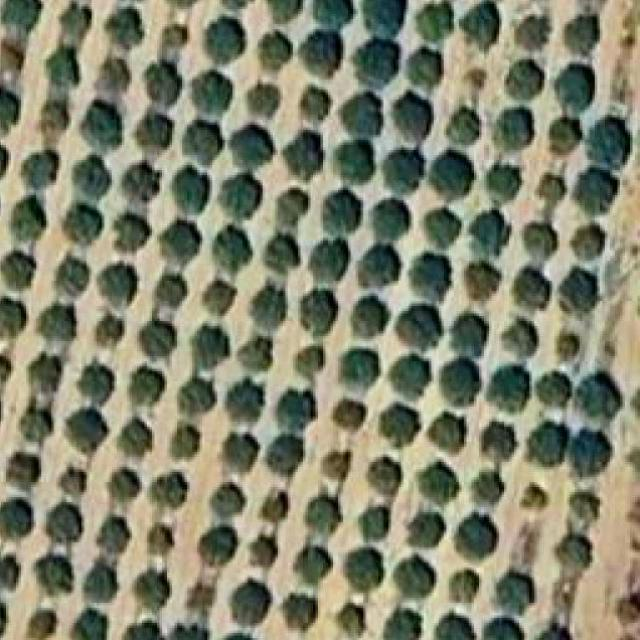Tree: (585, 115, 637, 167), (281, 127, 330, 180), (427, 150, 476, 203), (450, 510, 499, 560), (495, 316, 542, 368), (334, 89, 383, 138), (578, 165, 623, 218), (374, 150, 429, 193), (566, 427, 613, 477), (489, 107, 539, 153), (321, 183, 368, 231), (63, 409, 110, 457), (225, 578, 273, 625), (556, 11, 605, 57), (86, 98, 127, 152), (451, 314, 497, 362), (391, 94, 437, 142), (574, 373, 622, 419), (334, 138, 380, 185), (553, 66, 598, 114), (366, 200, 416, 243), (300, 32, 343, 82), (130, 110, 177, 155), (523, 422, 570, 467), (393, 554, 438, 601), (341, 549, 386, 596), (397, 301, 441, 349), (193, 525, 243, 567), (407, 255, 452, 300), (222, 373, 265, 420), (76, 359, 117, 408), (214, 429, 257, 475), (498, 59, 545, 101), (296, 286, 338, 333), (488, 366, 529, 414), (201, 17, 245, 61), (216, 175, 260, 219), (412, 0, 457, 43), (386, 356, 431, 399), (89, 54, 135, 96), (307, 235, 348, 282), (425, 408, 466, 455), (420, 460, 461, 507), (157, 222, 197, 270), (348, 298, 391, 342), (271, 190, 316, 232), (559, 271, 605, 312), (473, 208, 514, 254), (34, 304, 80, 345), (512, 266, 552, 313), (195, 276, 238, 319), (124, 369, 167, 412), (194, 326, 238, 368), (553, 537, 597, 579), (43, 502, 84, 547), (14, 148, 61, 187), (277, 591, 320, 633), (355, 248, 399, 289), (375, 401, 416, 445), (359, 0, 407, 37), (9, 195, 46, 243), (571, 225, 612, 268), (61, 203, 102, 246), (23, 354, 64, 397), (459, 255, 499, 299), (140, 318, 179, 363), (353, 40, 399, 78), (171, 165, 209, 211), (273, 389, 320, 426), (440, 361, 481, 403), (96, 264, 137, 306), (229, 128, 272, 168), (13, 404, 53, 447), (477, 163, 522, 201), (335, 349, 381, 386), (252, 283, 288, 330), (490, 572, 537, 608), (71, 155, 112, 196), (239, 79, 280, 120), (5, 452, 46, 493), (459, 2, 499, 44), (402, 48, 444, 88), (190, 69, 230, 111), (265, 435, 305, 477), (477, 422, 516, 465), (260, 29, 298, 73), (294, 542, 335, 582), (47, 2, 89, 41), (233, 334, 281, 368), (402, 516, 447, 552), (524, 218, 562, 260), (443, 108, 481, 150), (136, 570, 174, 612), (69, 603, 112, 640), (313, 445, 358, 480), (512, 14, 552, 53), (108, 214, 149, 252), (148, 467, 189, 505), (33, 552, 74, 590), (0, 35, 29, 88), (218, 225, 252, 270), (300, 495, 340, 533), (417, 208, 459, 244), (52, 253, 88, 295), (541, 117, 585, 151), (186, 123, 224, 162), (95, 516, 134, 554), (561, 487, 602, 523), (118, 420, 154, 461), (81, 562, 122, 598), (104, 9, 142, 47), (372, 460, 411, 497), (145, 62, 179, 104), (40, 50, 82, 84), (480, 610, 527, 640), (298, 82, 335, 120), (0, 253, 38, 290), (177, 380, 214, 418), (471, 470, 506, 510), (107, 465, 142, 505), (264, 230, 298, 271), (142, 520, 175, 561), (247, 532, 284, 568), (532, 373, 570, 408), (289, 341, 325, 377), (333, 603, 368, 640), (38, 100, 72, 138), (54, 462, 92, 496), (123, 163, 159, 198), (386, 611, 429, 640), (0, 500, 34, 536), (212, 480, 246, 515), (153, 274, 185, 311), (447, 570, 481, 604), (90, 313, 124, 347), (356, 504, 390, 538), (26, 606, 60, 640), (184, 580, 220, 612), (434, 613, 476, 640), (0, 299, 26, 341), (613, 592, 640, 631), (0, 0, 42, 25), (332, 402, 370, 429), (524, 477, 554, 511), (538, 175, 570, 205), (317, 0, 353, 26), (556, 328, 584, 361), (119, 620, 165, 640), (168, 422, 198, 452), (0, 555, 21, 596), (256, 492, 284, 522), (160, 22, 187, 49), (268, 0, 306, 19), (0, 88, 19, 126), (0, 132, 14, 180), (168, 626, 209, 640), (0, 358, 14, 396), (538, 625, 572, 640), (220, 629, 261, 640), (216, 0, 248, 13), (0, 601, 11, 637)
